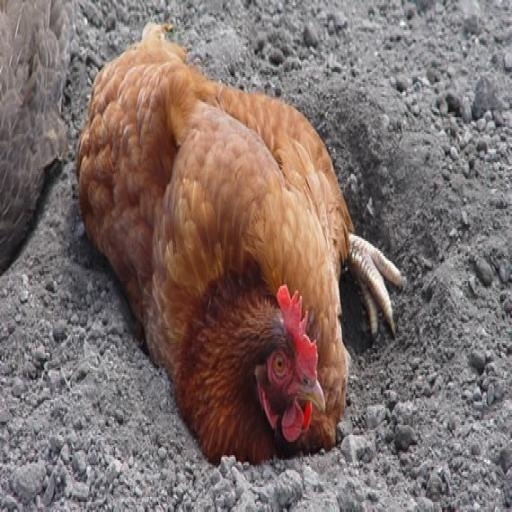healthy: (259, 311, 323, 436)
